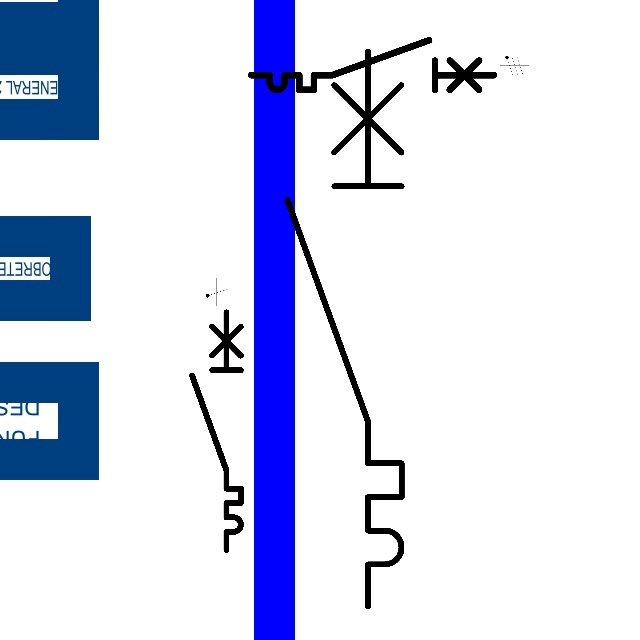interruptor_termomagnetico: (273, 37, 416, 621), (245, 34, 500, 96), (186, 306, 247, 556)
